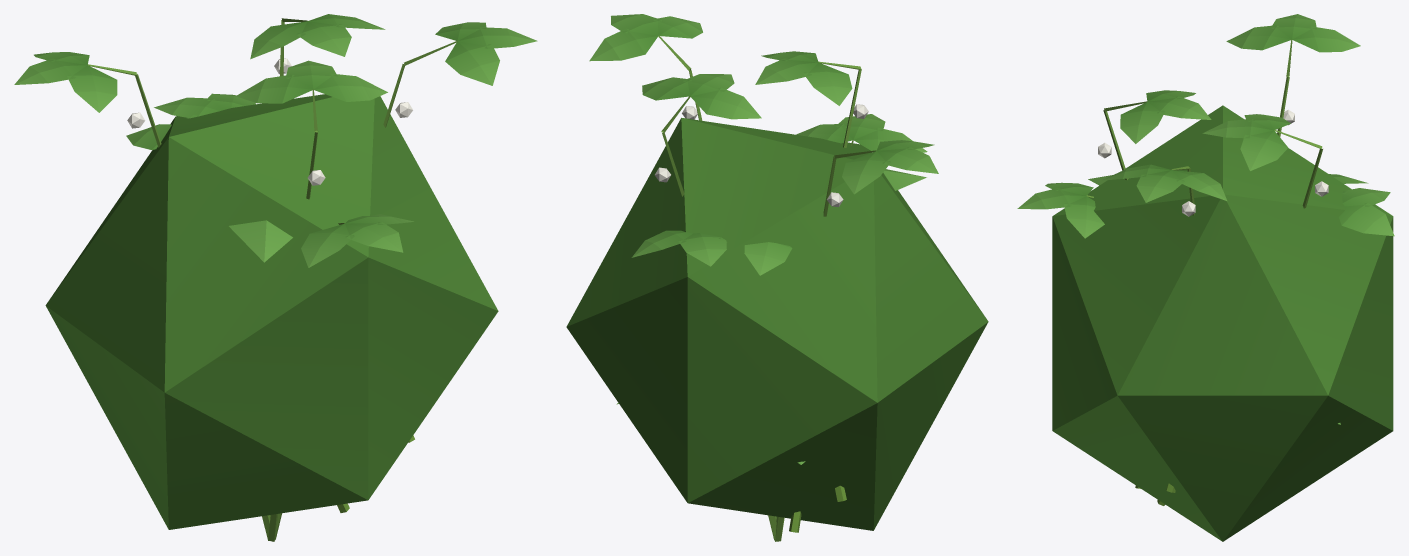
File: bean.glb
3 views of the same model, side by side, from view 1: azimuth 30°, elevation 25°; view 2: azimuth 150°, elevation 25°; view 3: azimuth 270°, elevation 25° (orthographic). The views are drawn at different scales.
Parts seen in each view (by area): view 1: leaves (×3), stem, flower; view 2: leaves (×3), stem, flower; view 3: leaves (×2), stem, flower.
Part boxes in pixels (x1,y1,x2,y2): leaves (×3): (14,14,537,529); stem: (135,20,404,541); flower: (127,58,412,185); leaves (×3): (566,14,988,530); stem: (662,69,861,541); flower: (654,104,868,207); leaves (×2): (1017,14,1394,541); stem: (1103,76,1322,215); flower: (1098,109,1328,216).
Size of the model in its own units: 0.9436 by 1 by 0.7963.
